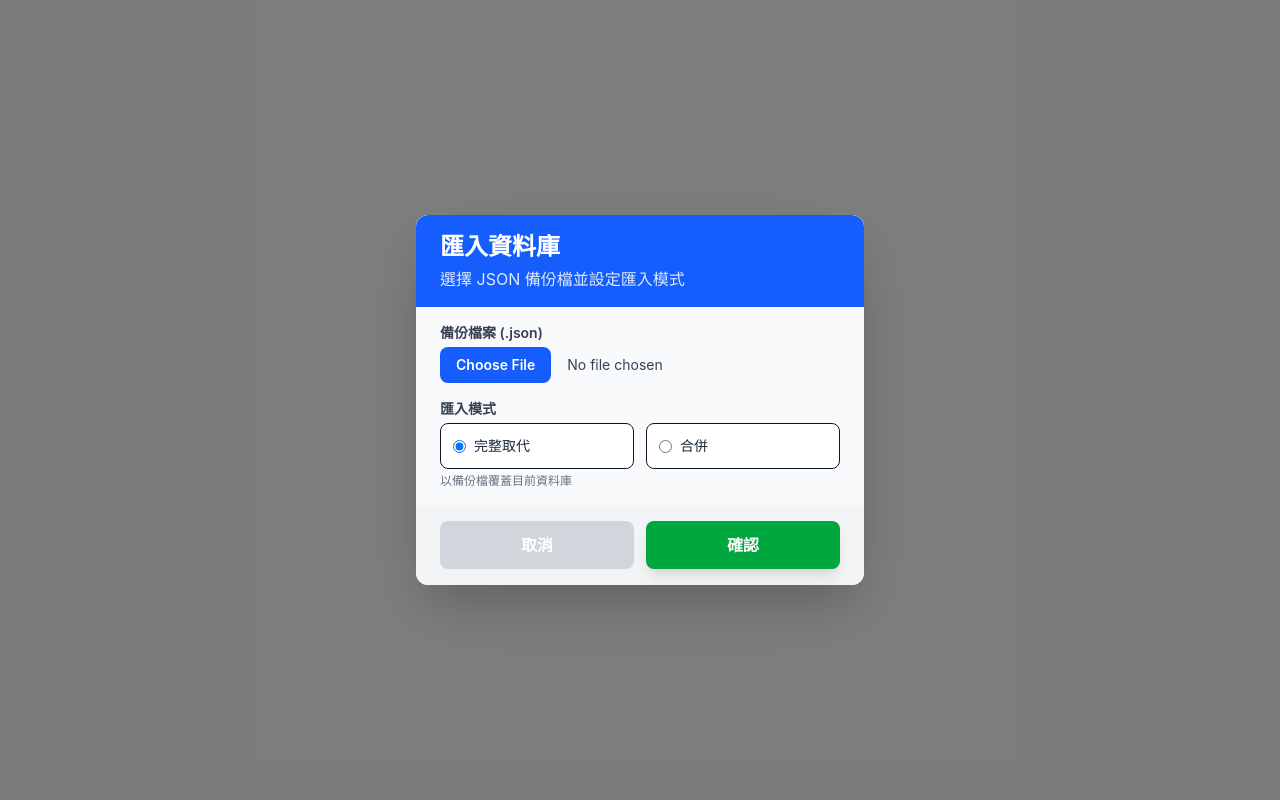
Test: ImportDialog › shows an error instead of importing when no file is selected
The image size is (1280, 800).
Click the button "確認": [743, 545] box left=646, top=521, right=840, bottom=569
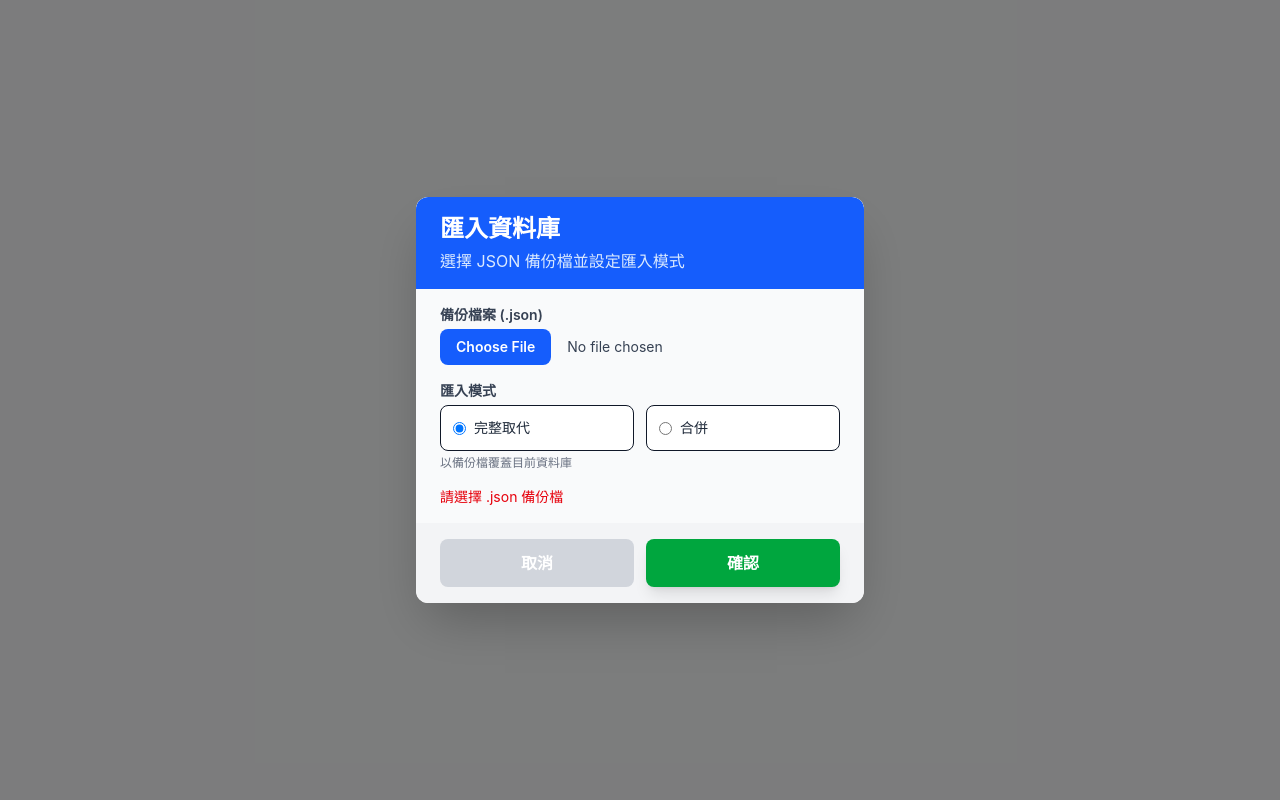
Now the text "請選擇 .json 備份檔" is shown, box left=440, top=488, right=563, bottom=505
